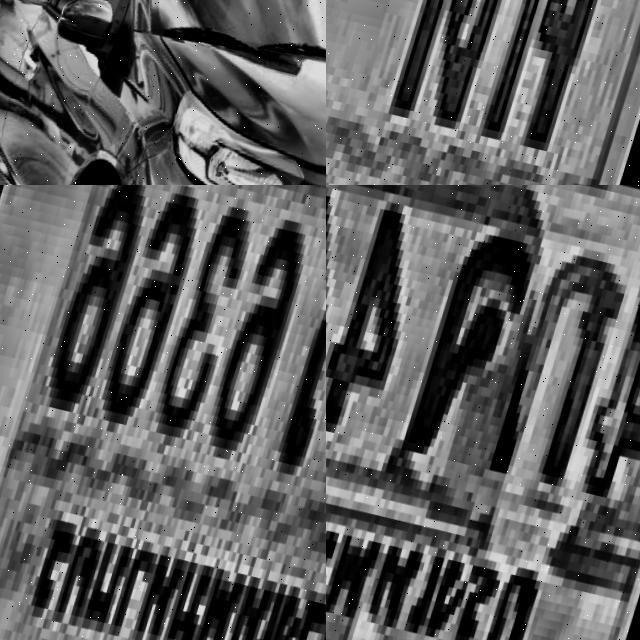license-plate: (0, 185, 326, 640), (326, 185, 640, 640), (326, 0, 640, 185)
